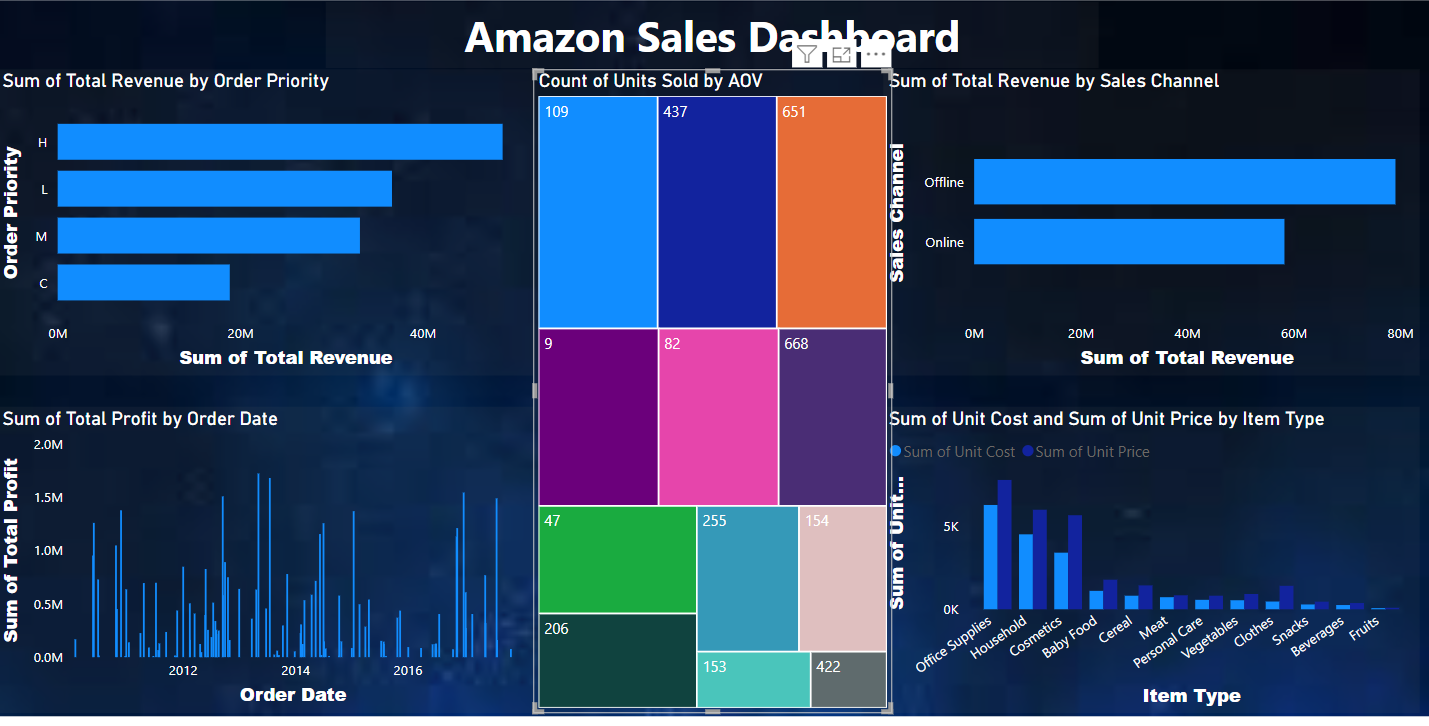

The dashboard page shown, as its layout file describes it:
{"tool":"powerbi","page":{"name":"Page 2","canvas":[1280,720],"ordinal":1},"visuals":[{"type":"clusteredColumnChart","fields":{"Category":["Amazon Sales data.Order Date"],"Y":["Sum(Amazon Sales data.Total Profit)"]},"box":[0,401.2,479.1,273.3],"z":0},{"type":"clusteredColumnChart","fields":{"Category":["Amazon Sales data.Item Type"],"Y":["Sum(Amazon Sales data.Unit Cost)","Sum(Amazon Sales data.Unit Price)"]},"box":[791.9,401.2,479.1,273.3],"z":1000},{"type":"clusteredBarChart","fields":{"Category":["Amazon Sales data.Sales Channel"],"Y":["Sum(Amazon Sales data.Total Revenue)"]},"box":[791.9,98.8,479.1,273.3],"z":2000},{"type":"clusteredBarChart","fields":{"Y":["Sum(Amazon Sales data.Total Revenue)"],"Category":["Amazon Sales data.Order Priority"]},"box":[0,98.8,479.1,273.3],"z":3000},{"type":"textbox","box":[294.2,39.5,690.7,59.3],"z":4000},{"type":"treemap","fields":{"Group":["Amazon Sales data.AOV"],"Values":["CountNonNull(Amazon Sales data.Units Sold)"]},"box":[479.1,98.8,320.9,575.6],"z":5000}]}

Visuals, with their boxes on the page's 1280x720 design canvas (x1, y1, x2, y2). These are canvas units, not pixel positions in the 1429x726 screenshot, which may show the page scaled, cropped or inside an application window:
clusteredColumnChart - Amazon Sales data.Order Date x Sum(Amazon Sales data.Total Profit): left=0, top=401, right=479, bottom=674
clusteredColumnChart - Amazon Sales data.Item Type x Sum(Amazon Sales data.Unit Cost): left=792, top=401, right=1271, bottom=674
clusteredBarChart - Amazon Sales data.Sales Channel x Sum(Amazon Sales data.Total Revenue): left=792, top=99, right=1271, bottom=372
clusteredBarChart - Sum(Amazon Sales data.Total Revenue) x Amazon Sales data.Order Priority: left=0, top=99, right=479, bottom=372
textbox: left=294, top=40, right=985, bottom=99
treemap - Amazon Sales data.AOV x CountNonNull(Amazon Sales data.Units Sold): left=479, top=99, right=800, bottom=674
